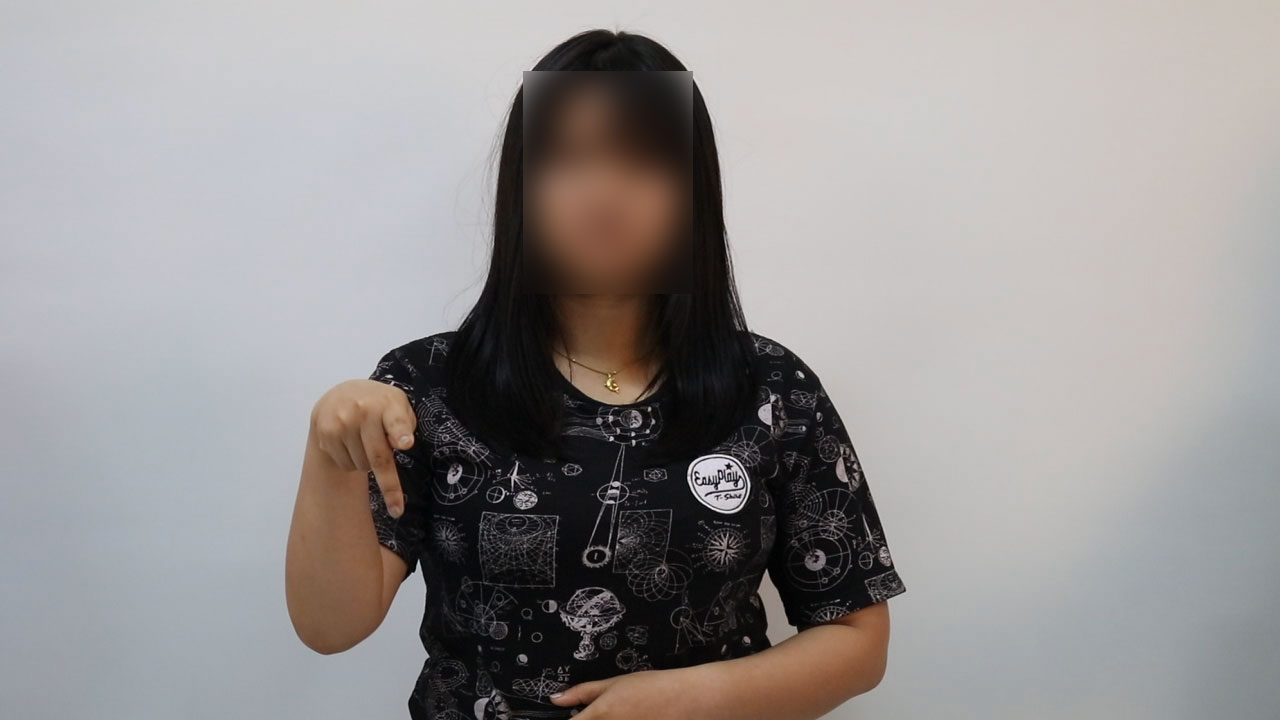por: (288, 365, 433, 530)
